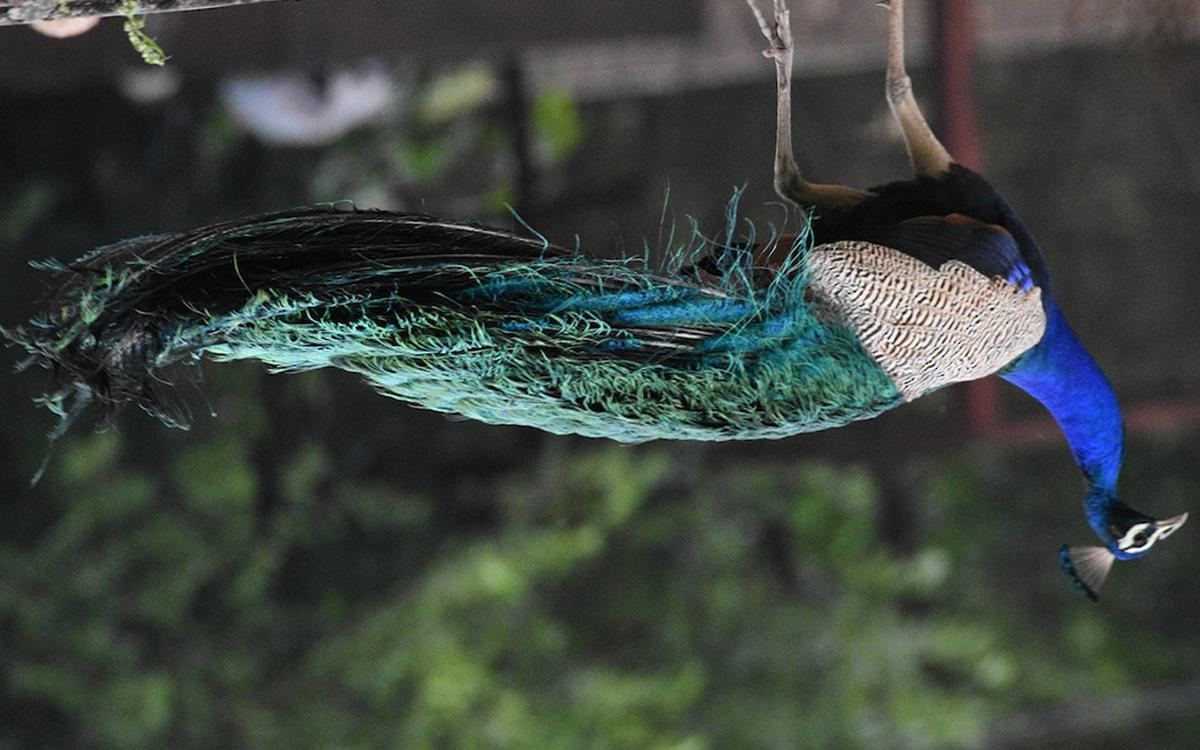peacock: (1, 118, 1187, 591)
